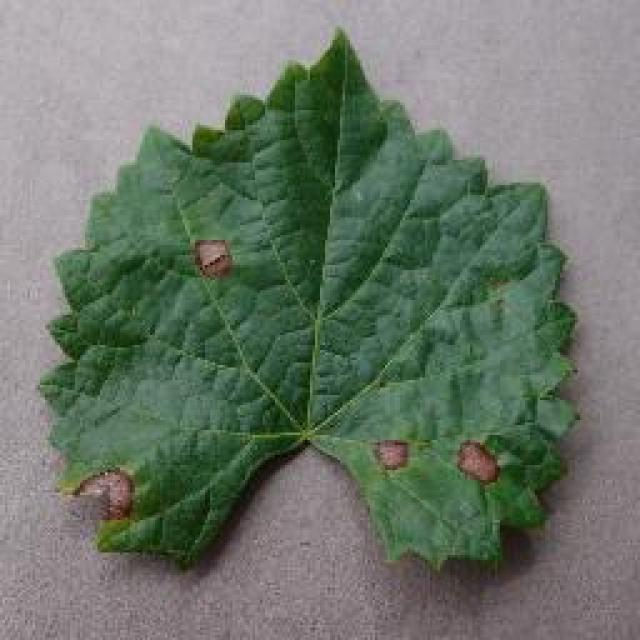Grape___Black_rot: (26, 18, 589, 581)
